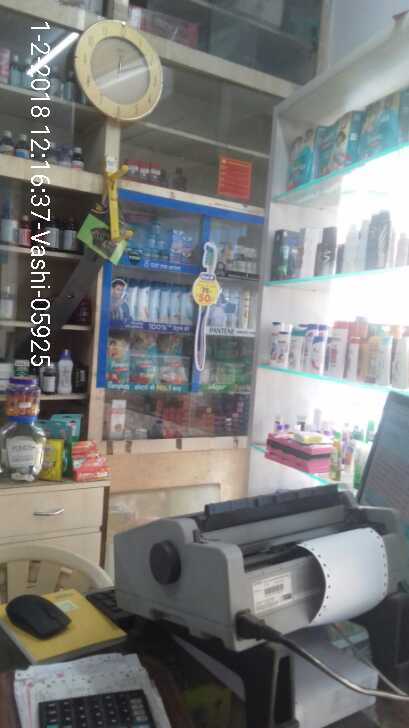beauty: (178, 287, 191, 328), (137, 279, 148, 323), (239, 288, 248, 331)
pharmacy: (130, 331, 158, 386), (158, 333, 185, 385), (107, 336, 130, 386), (169, 229, 181, 251), (181, 234, 193, 252), (151, 220, 161, 237)
